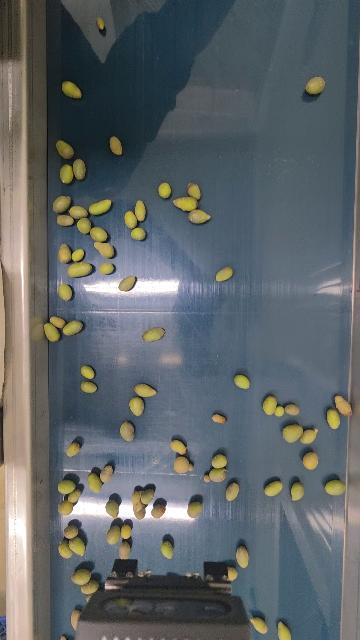Baby Potato: (131, 488, 147, 520), (88, 197, 112, 216), (92, 240, 116, 259), (334, 393, 353, 417), (282, 422, 303, 443), (173, 456, 196, 475), (203, 468, 230, 484), (67, 262, 93, 278), (141, 326, 167, 342), (212, 265, 235, 283), (106, 522, 121, 549), (304, 76, 325, 95), (69, 568, 91, 586), (185, 498, 203, 520), (120, 420, 136, 444), (62, 81, 82, 100), (56, 140, 75, 160), (52, 194, 72, 213), (233, 372, 253, 391), (58, 539, 73, 564), (236, 545, 251, 570), (250, 614, 267, 636), (68, 537, 87, 556), (134, 383, 158, 398), (127, 397, 145, 417), (85, 472, 102, 493), (79, 578, 100, 595), (325, 480, 346, 497), (57, 242, 72, 265), (264, 479, 283, 497), (104, 500, 121, 520), (172, 197, 198, 210), (88, 226, 109, 242), (224, 481, 240, 502), (276, 618, 291, 640), (301, 427, 319, 445), (118, 275, 137, 292), (44, 323, 61, 342), (100, 464, 117, 483), (303, 451, 319, 471), (63, 320, 84, 335), (188, 210, 210, 224), (263, 394, 277, 416), (57, 478, 75, 495), (63, 442, 82, 458), (169, 440, 188, 456), (55, 501, 75, 516), (327, 409, 341, 430), (73, 158, 86, 180), (60, 164, 73, 186), (291, 480, 304, 502), (160, 540, 174, 560), (110, 136, 123, 157), (211, 453, 228, 469), (130, 227, 148, 242), (141, 488, 156, 506), (71, 248, 88, 263), (135, 200, 147, 221), (69, 206, 88, 219), (80, 364, 95, 380), (80, 381, 100, 393), (157, 182, 171, 199), (77, 218, 91, 235), (58, 284, 72, 301), (152, 502, 166, 519), (124, 211, 137, 229), (70, 607, 79, 633), (119, 542, 131, 561), (68, 489, 84, 503), (62, 526, 79, 539), (99, 262, 115, 275), (285, 403, 301, 416), (57, 215, 74, 227), (50, 316, 67, 328), (211, 413, 227, 425), (121, 524, 133, 540), (227, 564, 237, 583), (189, 183, 200, 197), (275, 405, 285, 418), (97, 17, 104, 30)
